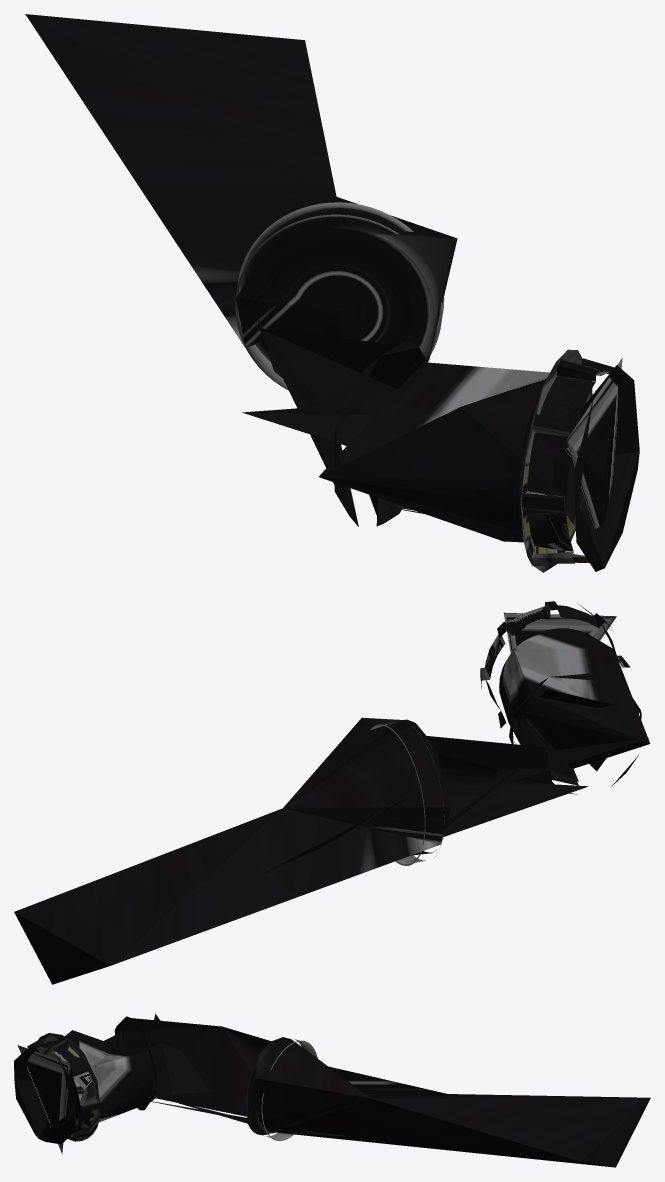
The model's file is consumable_hose_coolant_a01.glb.
3 views of the same model, one above another, from view 1: azimuth 30°, elevation 25°; view 2: azimuth 150°, elevation 25°; view 3: azimuth 270°, elevation 25° (orthographic). The views are drawn at different scales.
Parts seen in each view (by area): view 1: geometry_0; view 2: geometry_0; view 3: geometry_0.
Part boxes in pixels (x1,y1,x2,y2): geometry_0: (25,14,639,572); geometry_0: (14,601,650,984); geometry_0: (14,1013,650,1167).
Bounding box in the file's own units: 0.1859 × 0.0781 × 0.42.
Materials: 1 (1 with a texture image).
